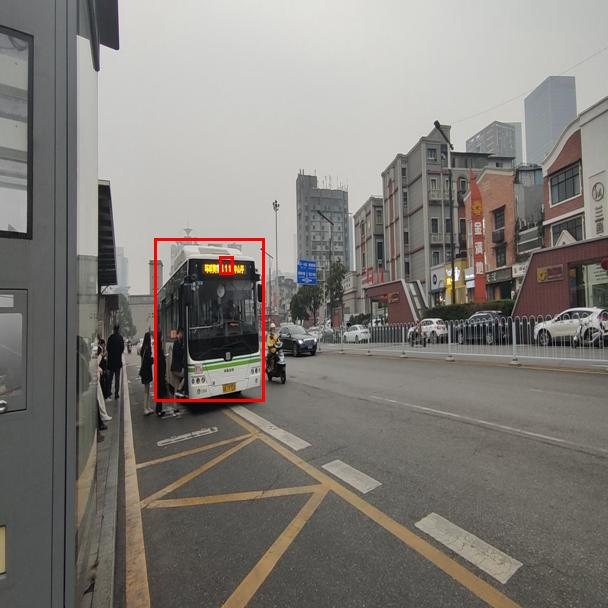bus: (154, 238, 264, 401)
screen: (219, 256, 233, 274)
